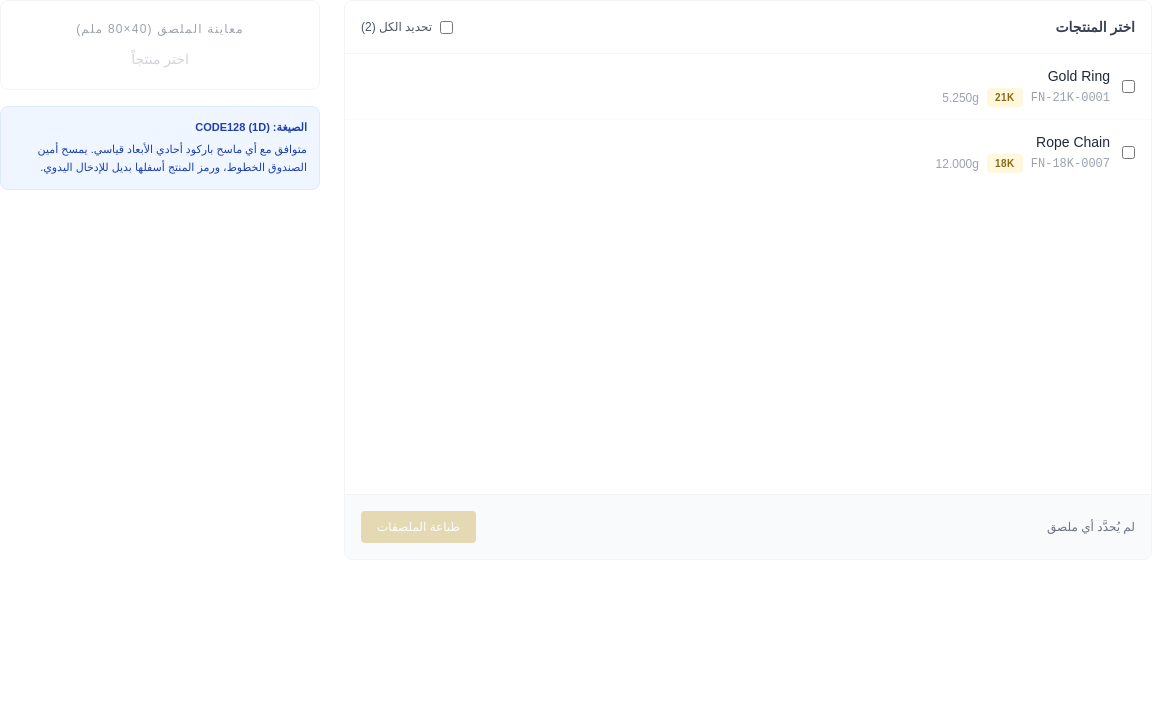
QR labels (NEX-64) › Arabic: list, preview and help — no English left
The width and height of the screenshot is (1152, 720).
Expected: the text "اختر المنتجات" is shown, x1=1055 y1=17 x2=1135 y2=37
Expected: the text "اختر منتجاً" is shown, x1=131 y1=51 x2=189 y2=67
Click the label "Rope Chain FN-18K-0007 18K 12.000g" at (1035, 154), box x1=936 y1=134 x2=1135 y2=173
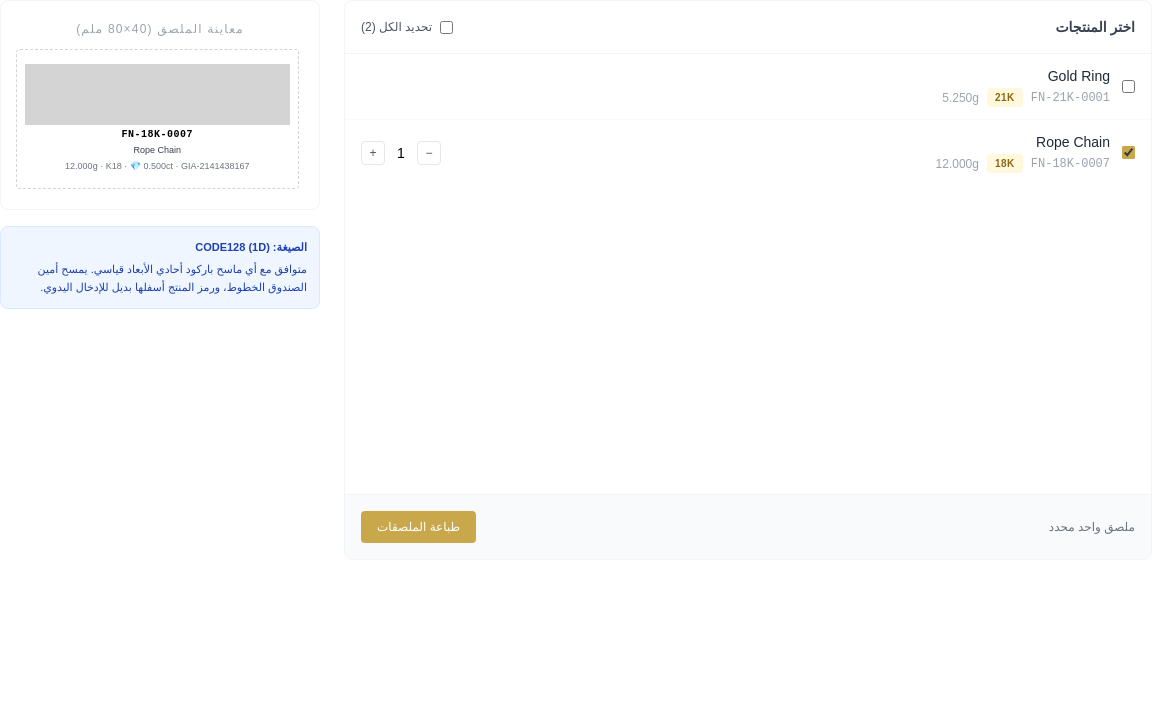
Now the text "ملصق واحد محدد" is shown, box x1=1049 y1=519 x2=1135 y2=535
Now the button "طباعة الملصقات" is enabled, box x1=361 y1=511 x2=476 y2=543
